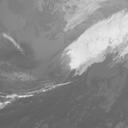cyclone: (42, 41, 95, 92)
